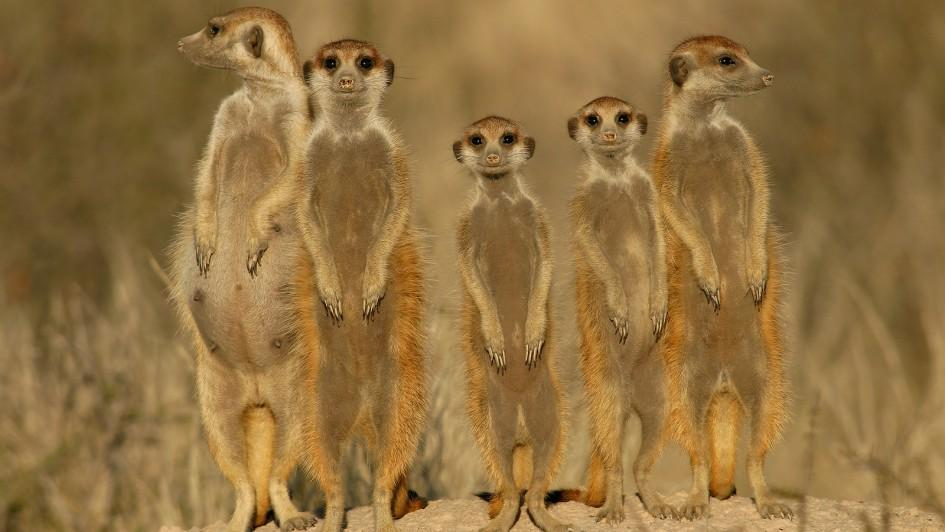meerkat: (174, 1, 322, 532), (427, 97, 573, 532), (555, 75, 685, 532)
